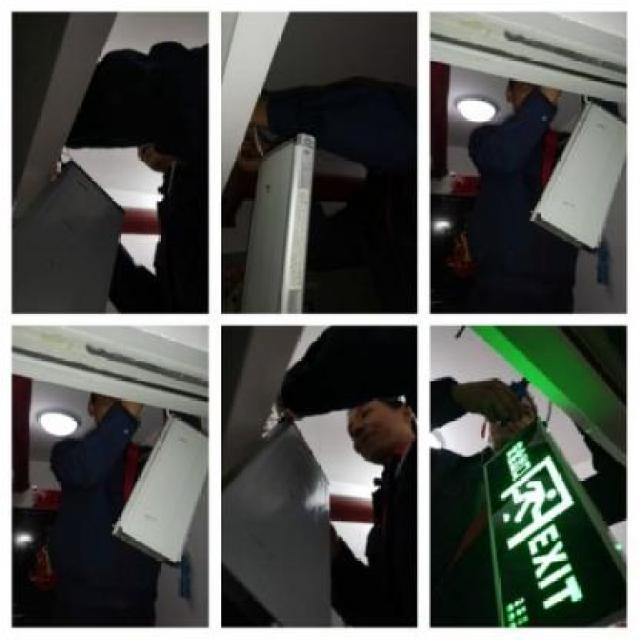exit_sign: (476, 422, 630, 629)
